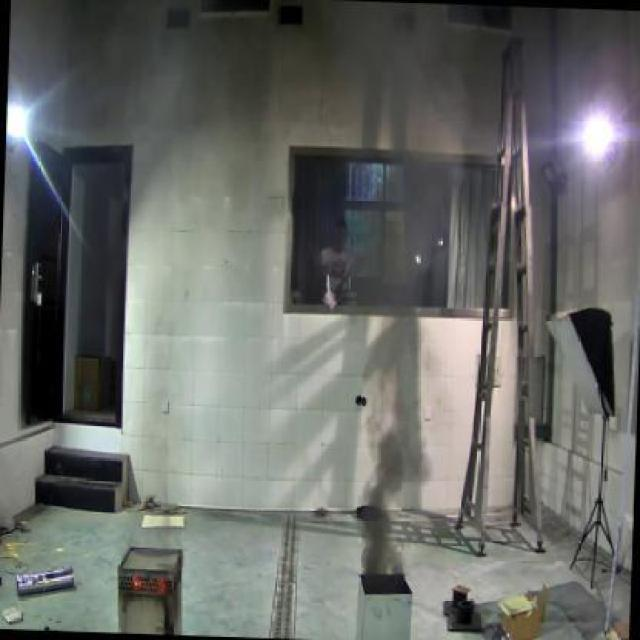fire: (356, 433, 427, 572)
